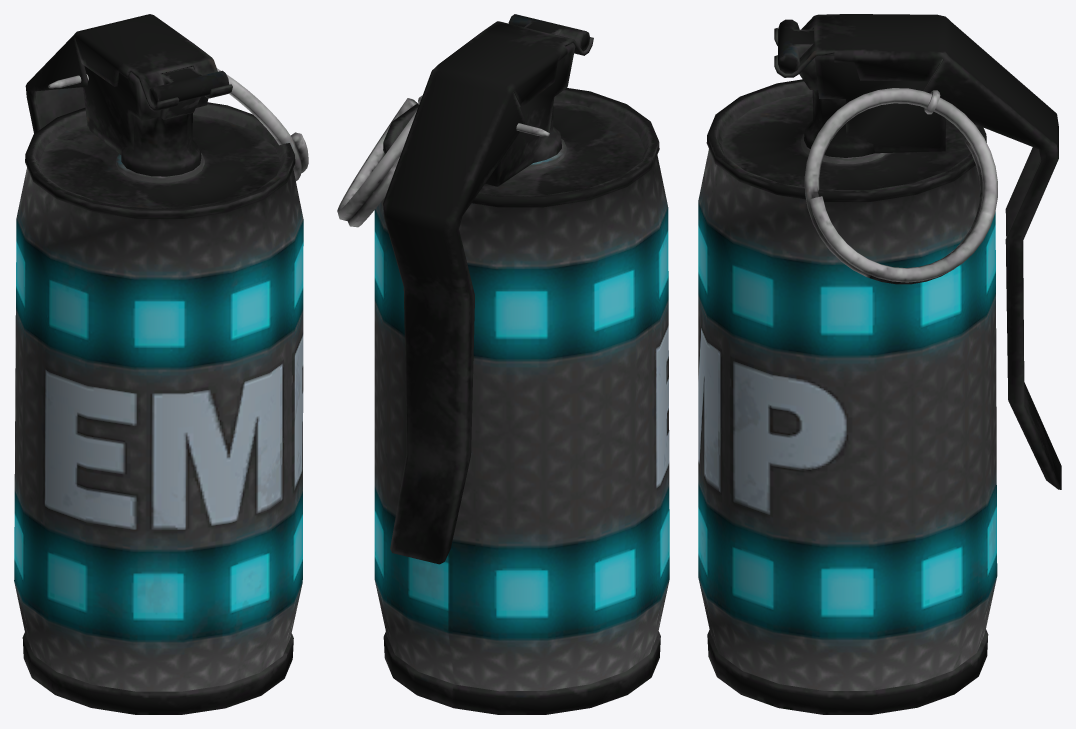
Rendered from Weapons_Grenades_EMPGrenade_LOD0.glb.
The picture shows the model from 3 angles, left to right: view 1: azimuth 30°, elevation 25°; view 2: azimuth 150°, elevation 25°; view 3: azimuth 270°, elevation 25°; orthographic projection. The views are drawn at different scales.
Parts seen in each view (by area): view 1: Hoodie; view 2: Hoodie; view 3: Hoodie.
Boxes of the visible parts, bbox=[...] form: Hoodie: bbox=[14, 14, 308, 714]; Hoodie: bbox=[337, 14, 669, 714]; Hoodie: bbox=[698, 14, 1061, 714].
Size of the model in its own units: 0.0638 by 0.1354 by 0.0713.
Materials: 1 (1 with a texture image).
